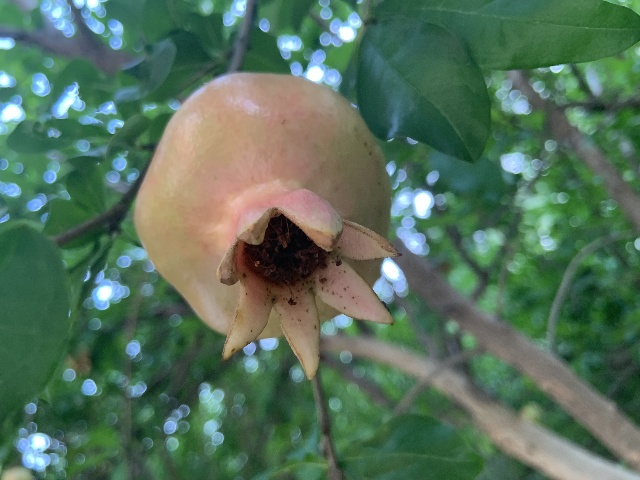mid-growth: (136, 72, 403, 379)
